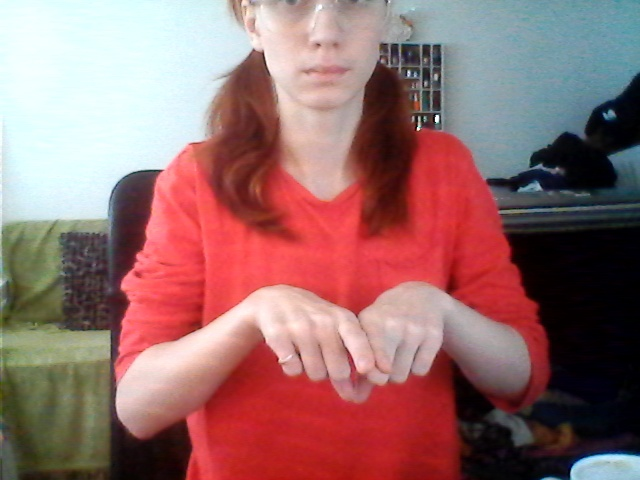sestra: (241, 265, 446, 404)
